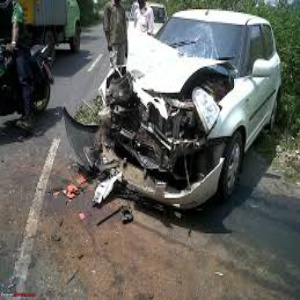bonnet: (121, 29, 204, 102)
bumper: (96, 116, 217, 212)
